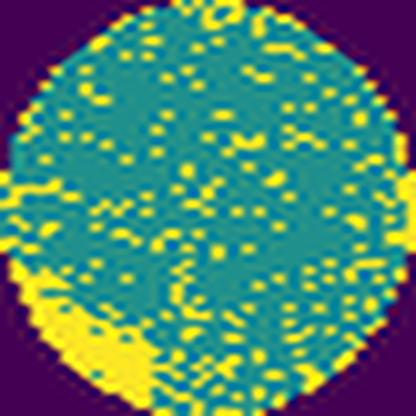Edge-Loc: (8, 257, 167, 415), (383, 171, 415, 260)
